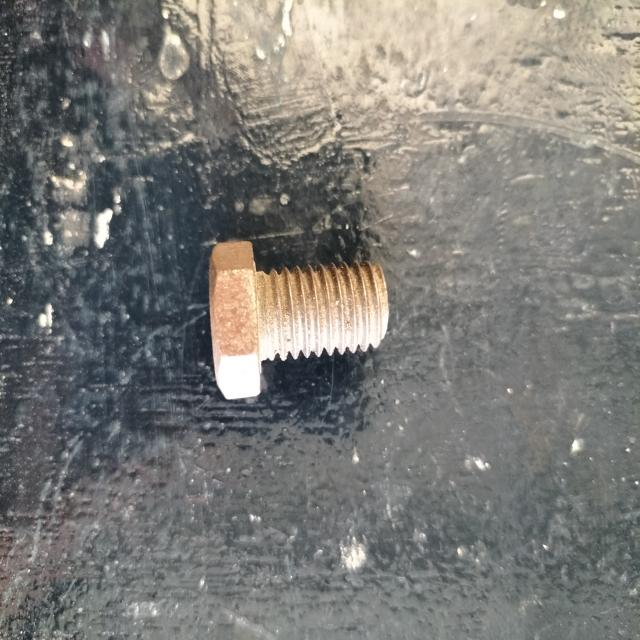bolt: (210, 242, 388, 401)
